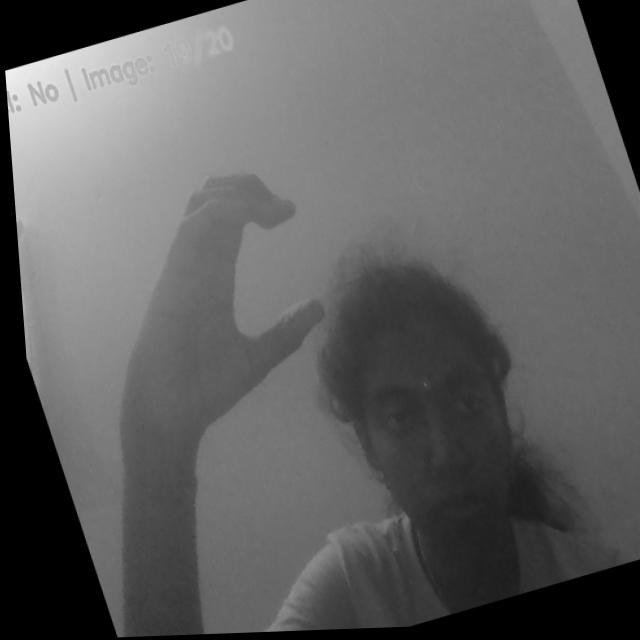No: (14, 111, 368, 482)
